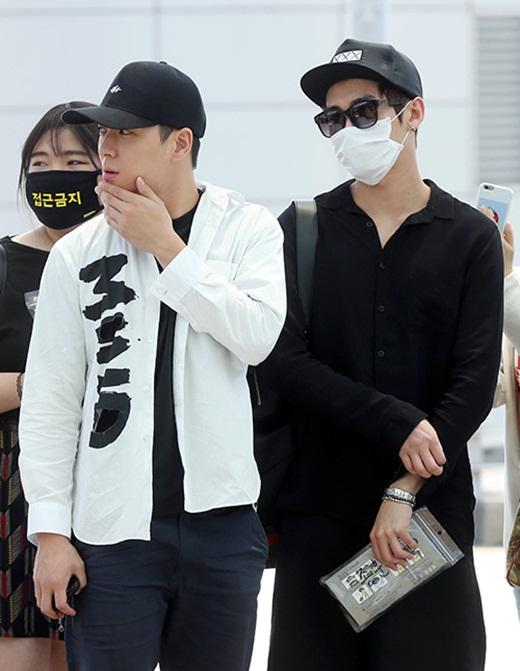NONE: (95, 117, 170, 192)
OK: (22, 134, 112, 224), (325, 96, 408, 186)
